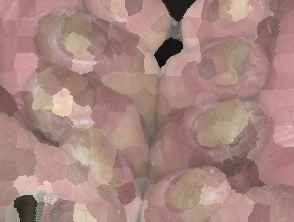Nail_psoriasis: (4, 46, 135, 170), (53, 111, 163, 222), (156, 94, 281, 178), (158, 32, 277, 109), (27, 1, 131, 84), (140, 156, 239, 222), (178, 0, 273, 46), (82, 0, 174, 45)
